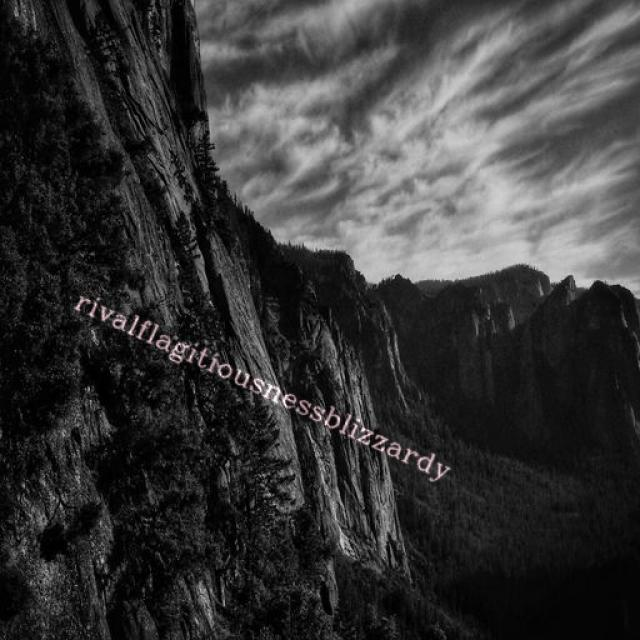watermark: (65, 285, 465, 485)
